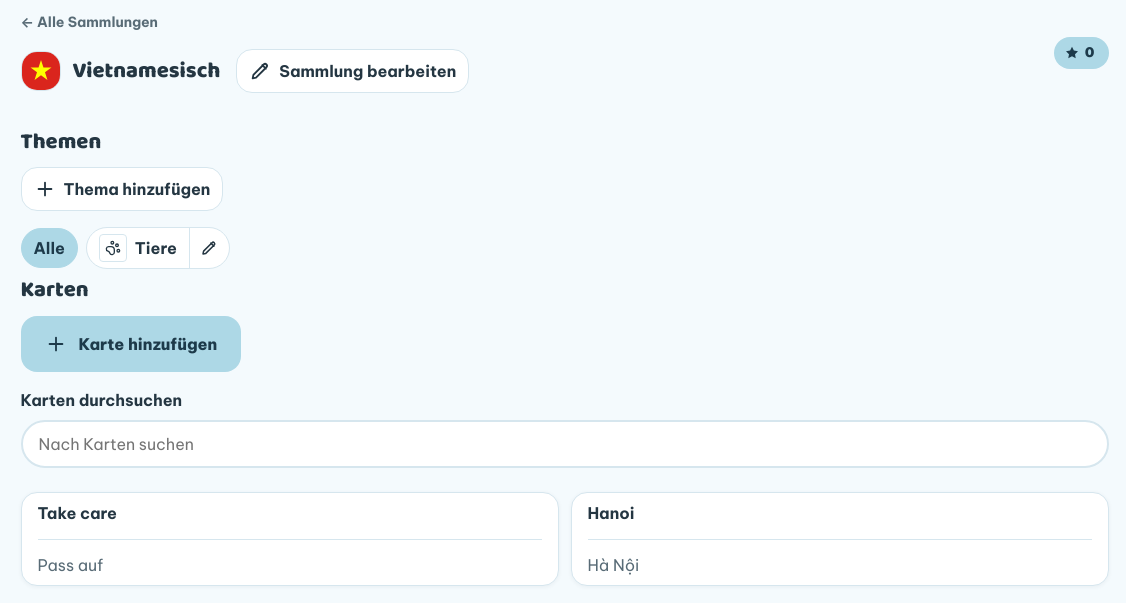
Test: rendered app journeys › filters Cards in a Collection by Topic
The image size is (1126, 603).
Check: the text "Take care" is shown, box [38,501,117,525]
Check: the text "Hanoi" is shown, box [588,501,634,525]
Click the button "Tiere" at (138, 248), box [87,228,189,268]
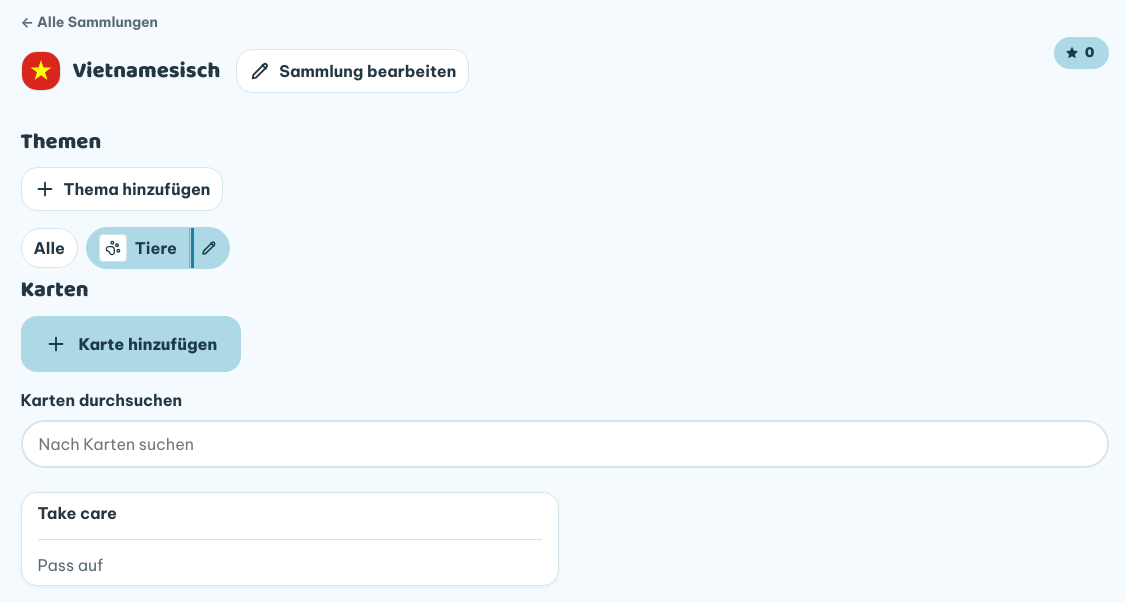
Check: the text "Take care" is shown, box [38,501,117,525]
Check: the link "Hanoi" is gone
Click the button "Alle" at (49, 248), box [20,228,78,268]
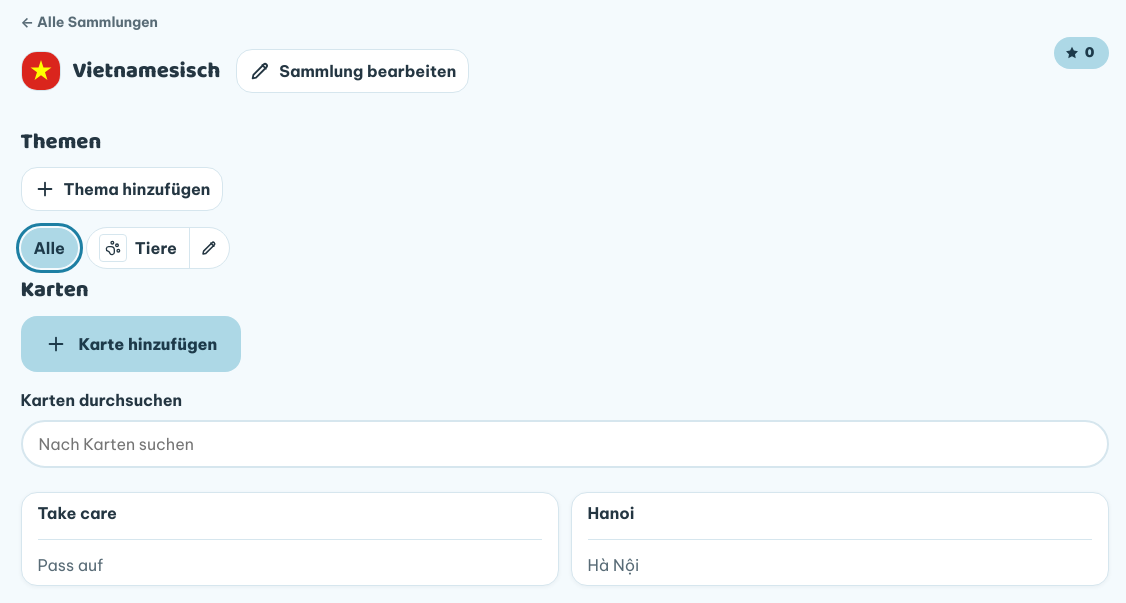
Check: the text "Hanoi" is shown, box [588,501,634,525]
